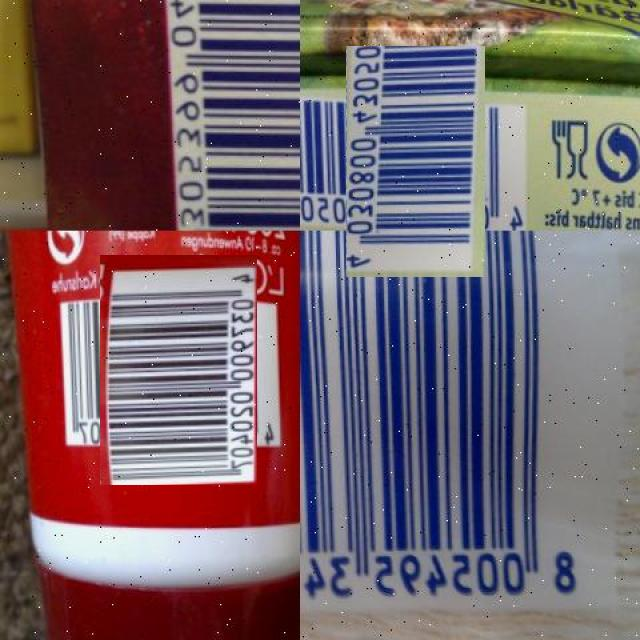Barcode: (300, 231, 629, 617), (81, 273, 275, 467), (323, 69, 509, 254), (157, 0, 300, 231)
